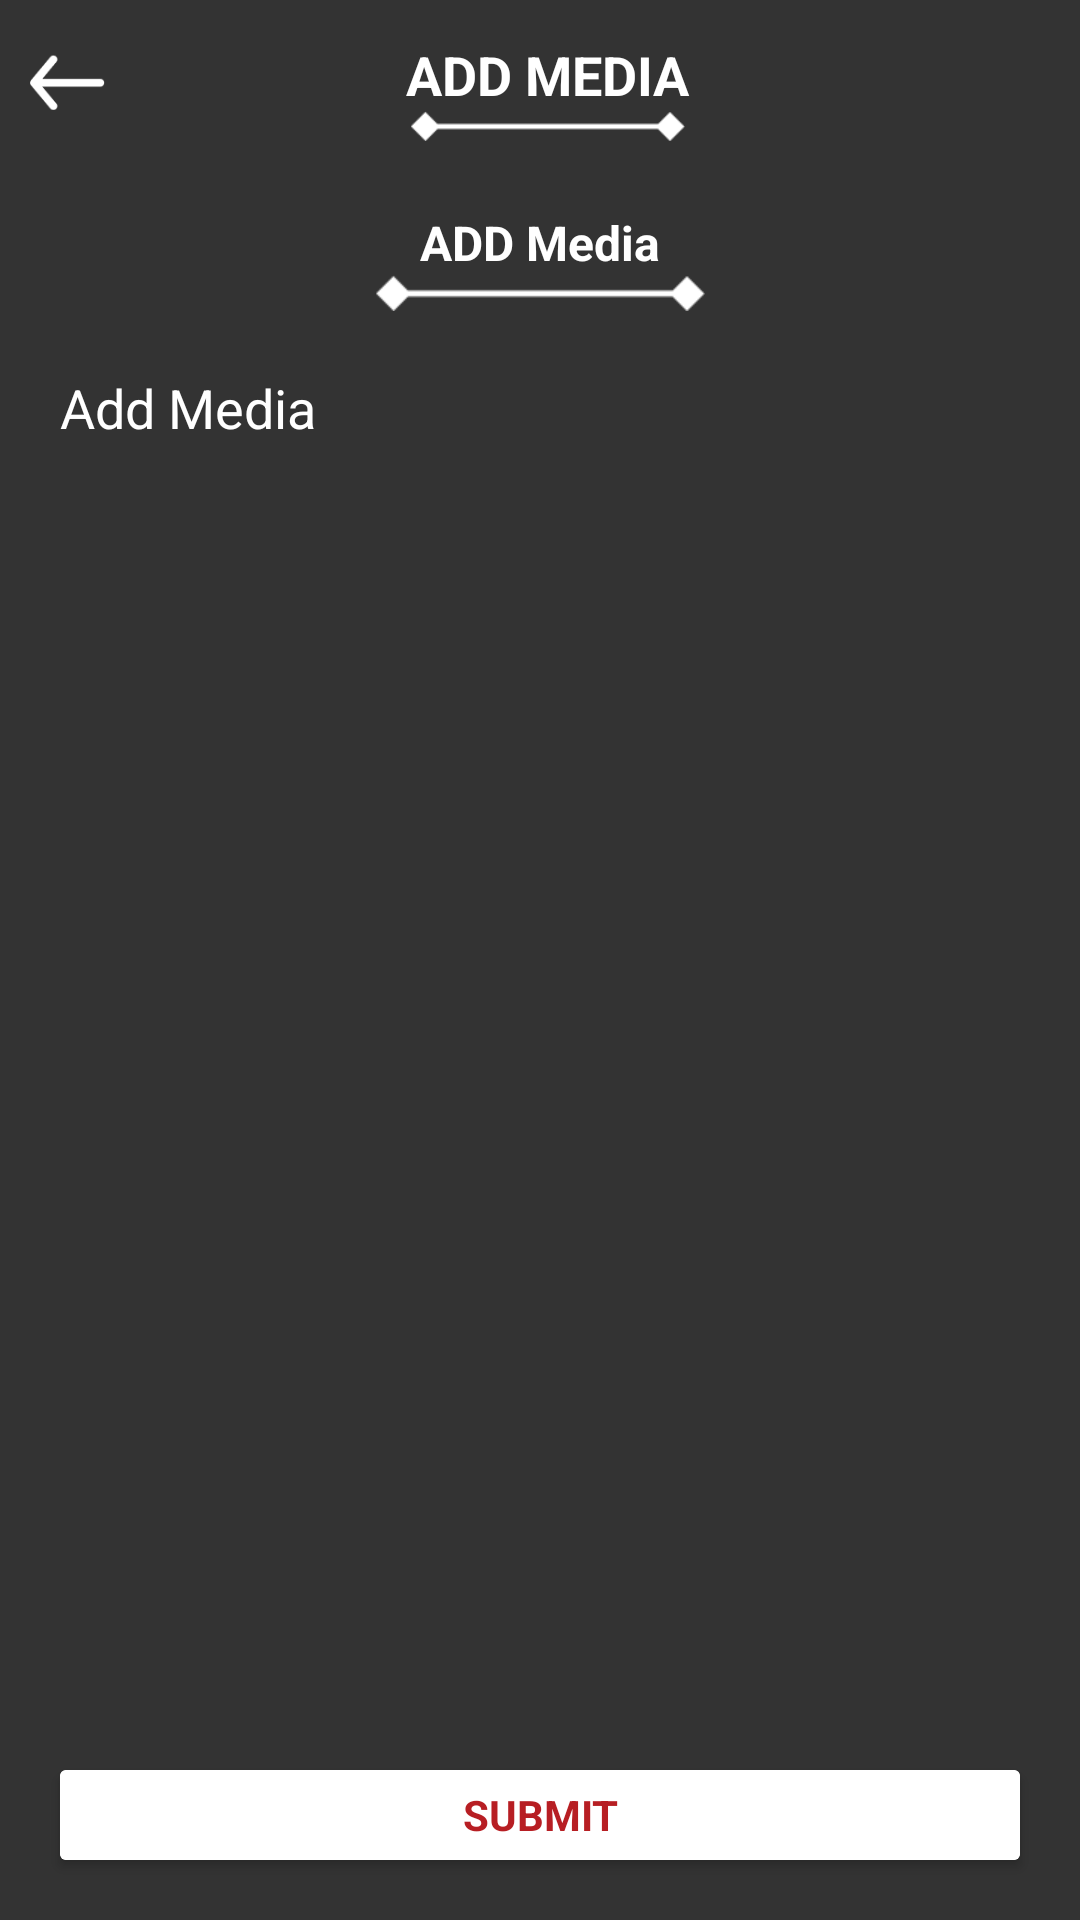

Point at icon controls on the screen. Image size 1080 x 1920, points as point (x, y).
back arroe: point (67, 82)
